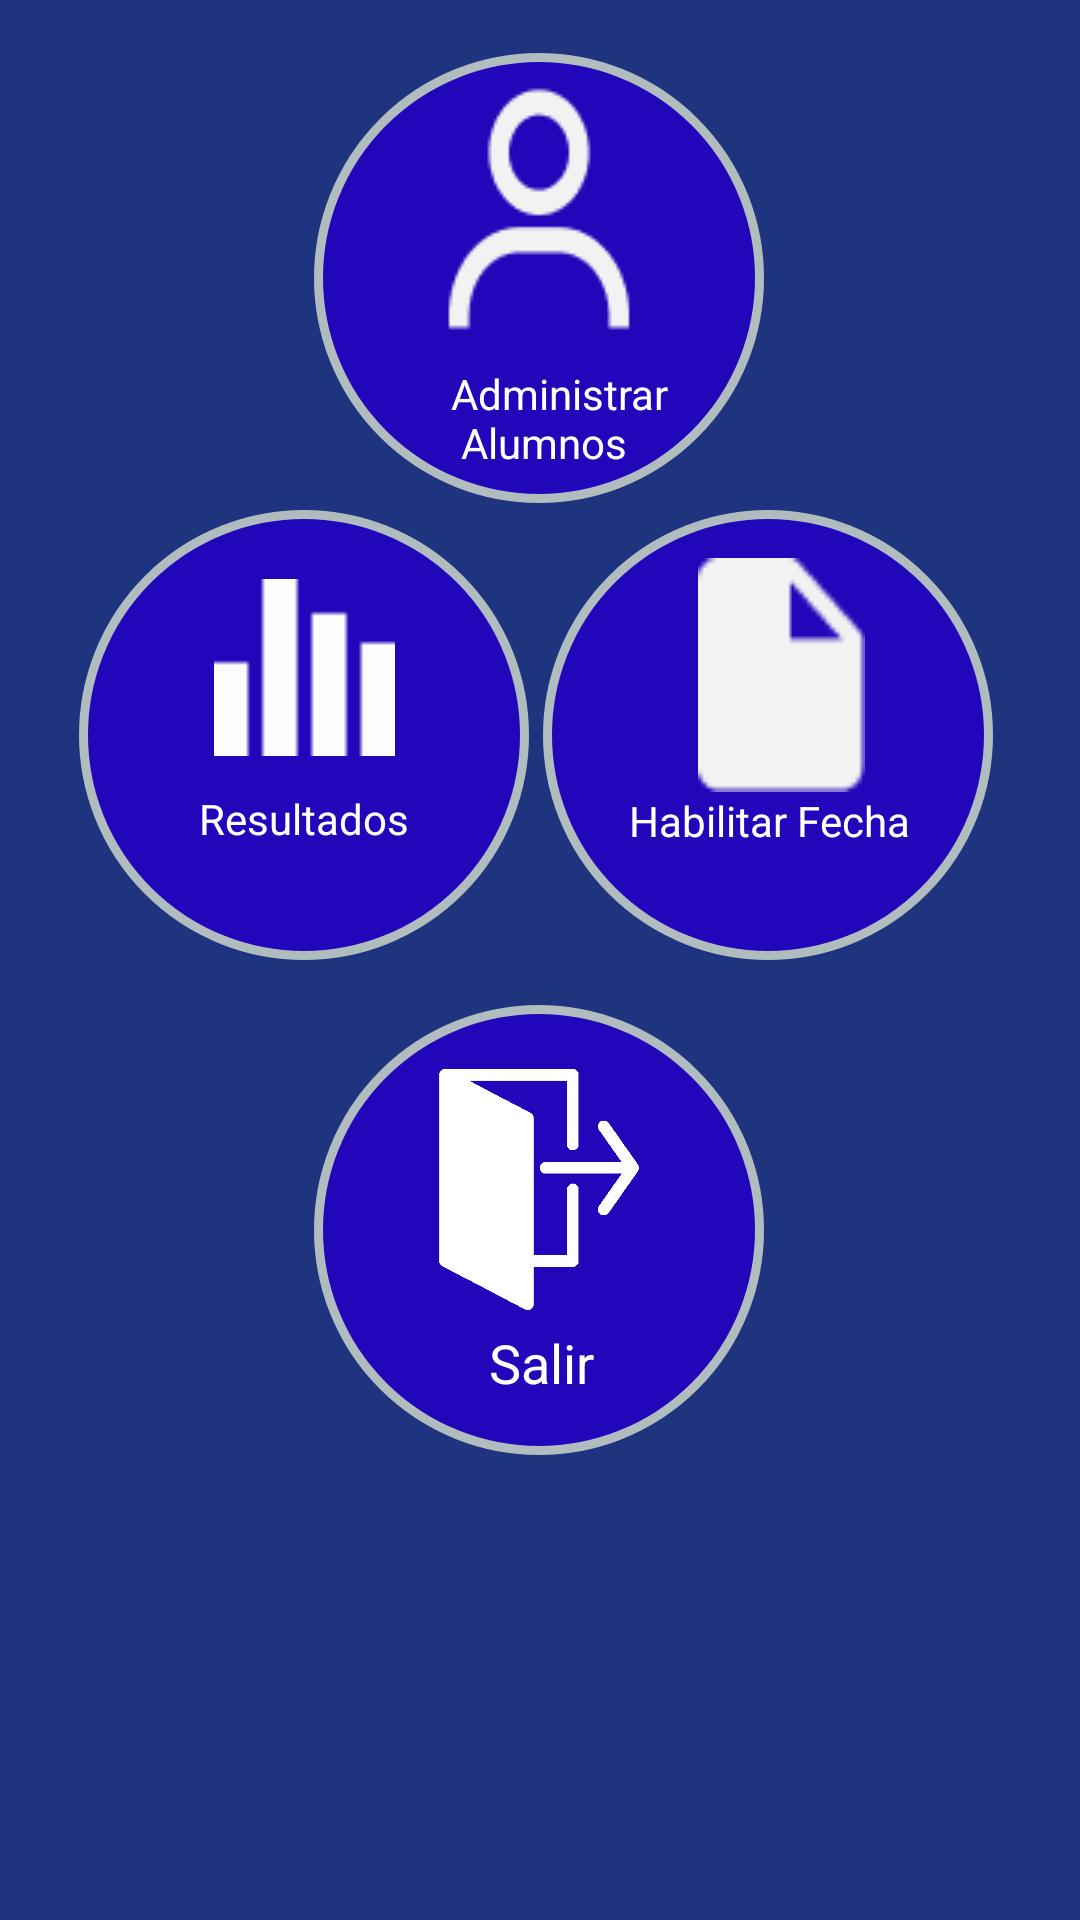

Screen size 1080 x 1920. Icon name, then its box in pixels as (x1, y1, x2, y2):
userprofe: (448, 88, 630, 330)
